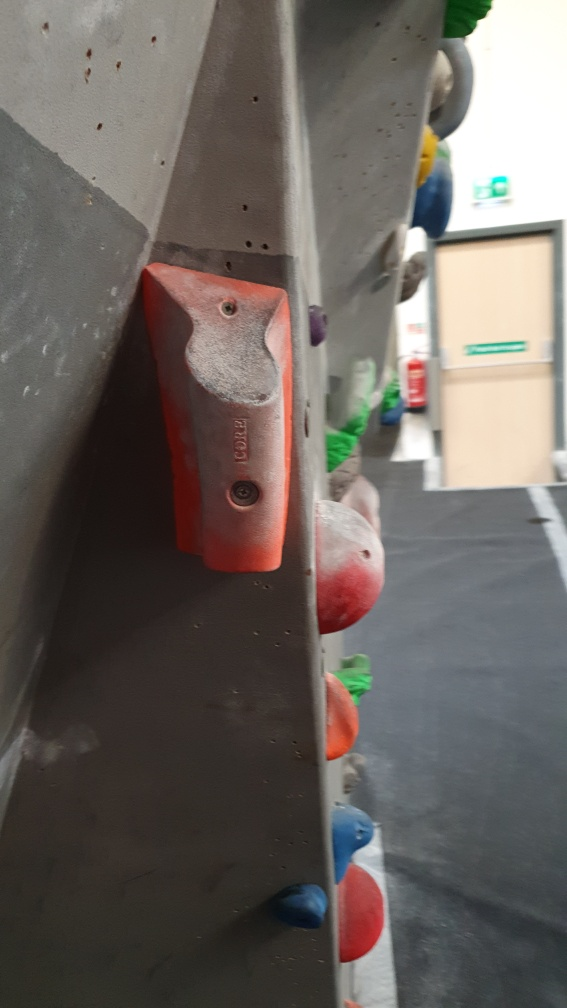Pinch: (135, 257, 296, 573)
Sloper: (310, 497, 386, 638), (334, 856, 387, 964)
